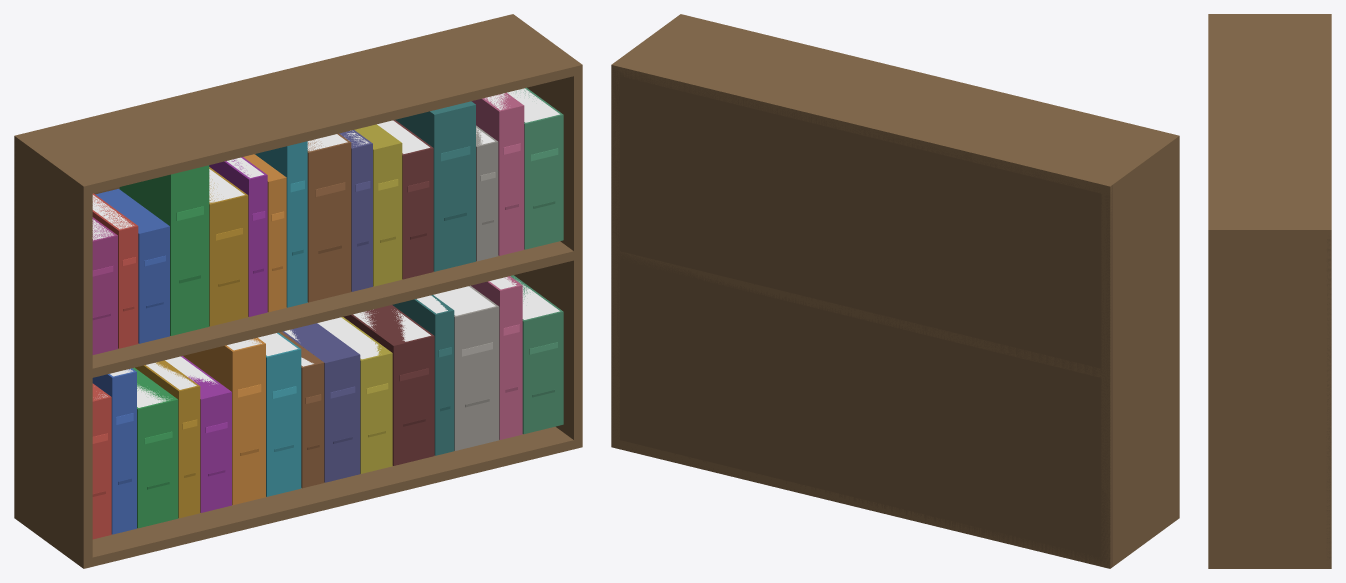
Rendered from Bookshelf_2 tiers.glb.
3 renders of one model, left to right at view 1: azimuth 30°, elevation 25°; view 2: azimuth 150°, elevation 25°; view 3: azimuth 270°, elevation 25°, orthographic. The views are drawn at different scales.
Parts seen in each view (by area): view 1: Books, Shelf; view 2: Shelf; view 3: Shelf.
Part boxes in pixels (x1=…): Books: x1=92, y1=87, x2=563, y2=539; Shelf: x1=14, y1=14, x2=582, y2=568; Shelf: x1=611, y1=14, x2=1179, y2=568; Shelf: x1=1208, y1=14, x2=1331, y2=568.
Bounding box in the file's own units: 1.24 × 0.911 × 0.3.
